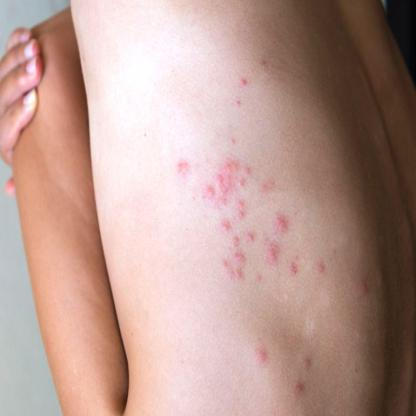Bed Bug: (200, 138, 276, 206), (216, 208, 262, 288), (292, 353, 316, 397), (233, 73, 251, 109), (250, 344, 272, 370), (274, 210, 290, 236), (264, 242, 280, 267), (176, 154, 192, 178), (288, 254, 302, 278), (356, 278, 370, 300), (316, 257, 327, 278), (260, 58, 268, 74)
